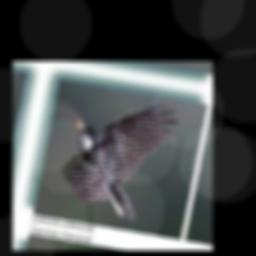Woodpecker: (50, 84, 186, 226)
